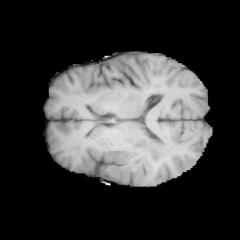glioma: (103, 136, 171, 183)
